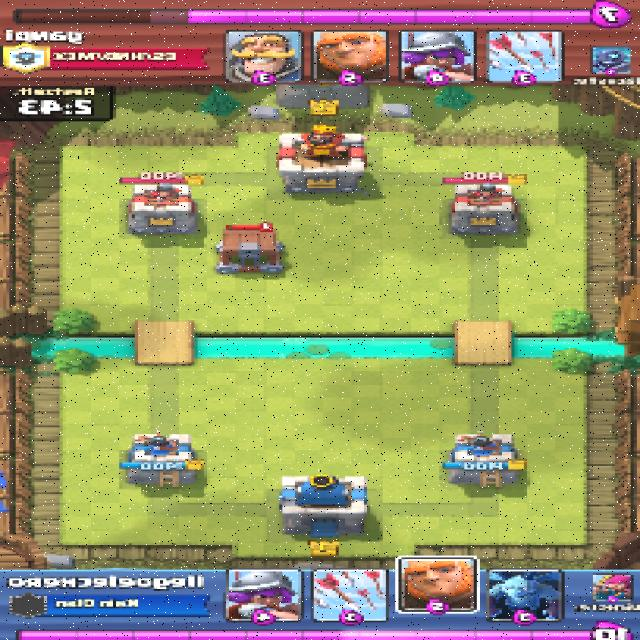Player-GoblinCage: (214, 226, 282, 271)
